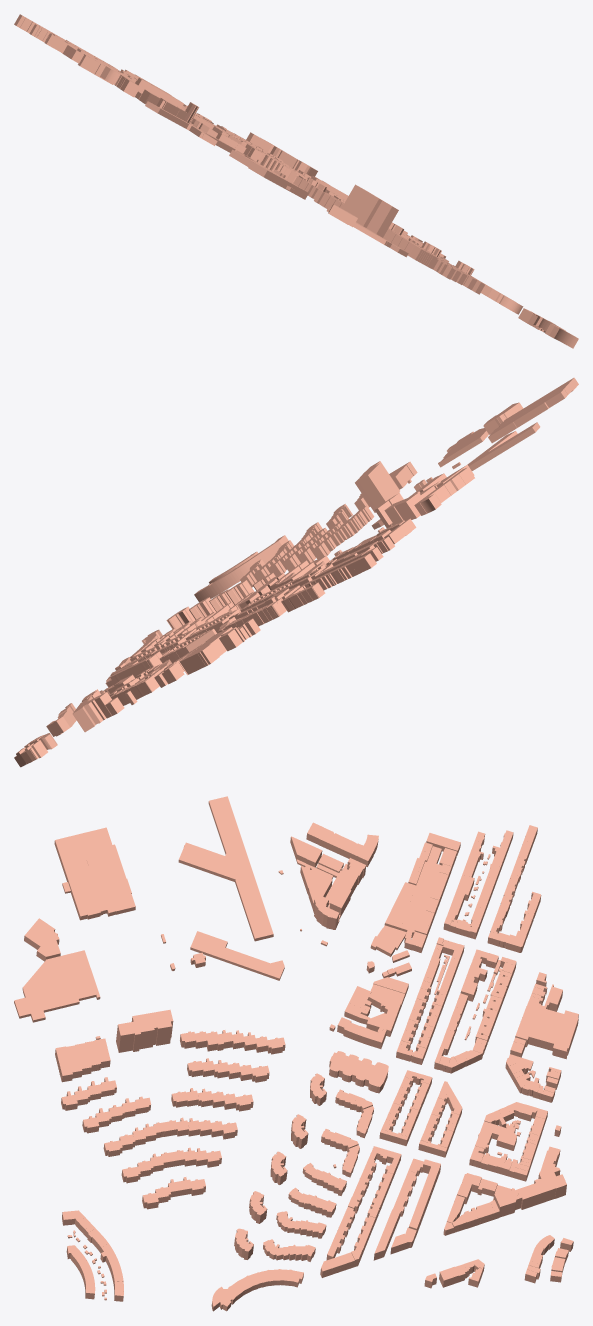
The picture shows the model from 3 angles, top to bottom: view 1: azimuth 30°, elevation 25°; view 2: azimuth 150°, elevation 25°; view 3: azimuth 270°, elevation 25°; orthographic projection. The views are drawn at different scales.
Bounding box in the file's own units: 553 × 423 × 671.
